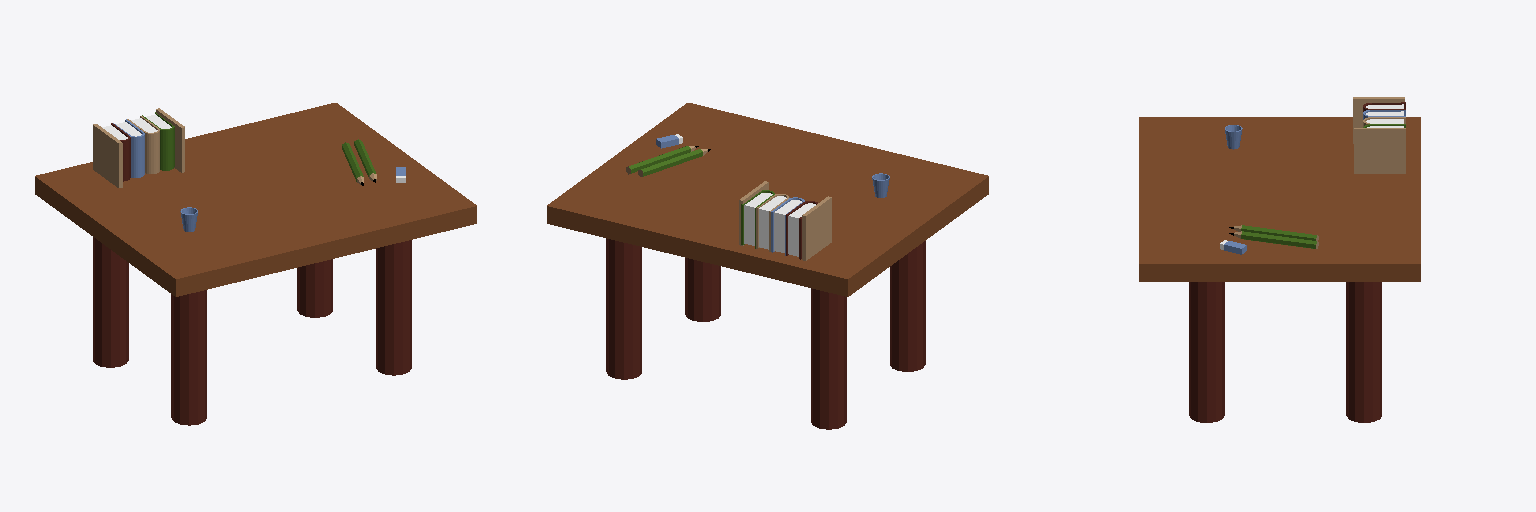
The picture shows the model from 3 angles: view 1: azimuth 30°, elevation 25°; view 2: azimuth 150°, elevation 25°; view 3: azimuth 270°, elevation 25°; orthographic projection.
Parts seen in each view (by area): view 1: desc.002; view 2: desc.002; view 3: desc.002.
Part boxes in pixels (x1,y1,x2,y2): desc.002: (35, 103, 476, 425); desc.002: (547, 103, 988, 429); desc.002: (1139, 97, 1420, 422).
Bounding box in the file's own units: 5.56 × 3.88 × 4.51.
Materials: 1 (1 with a texture image).